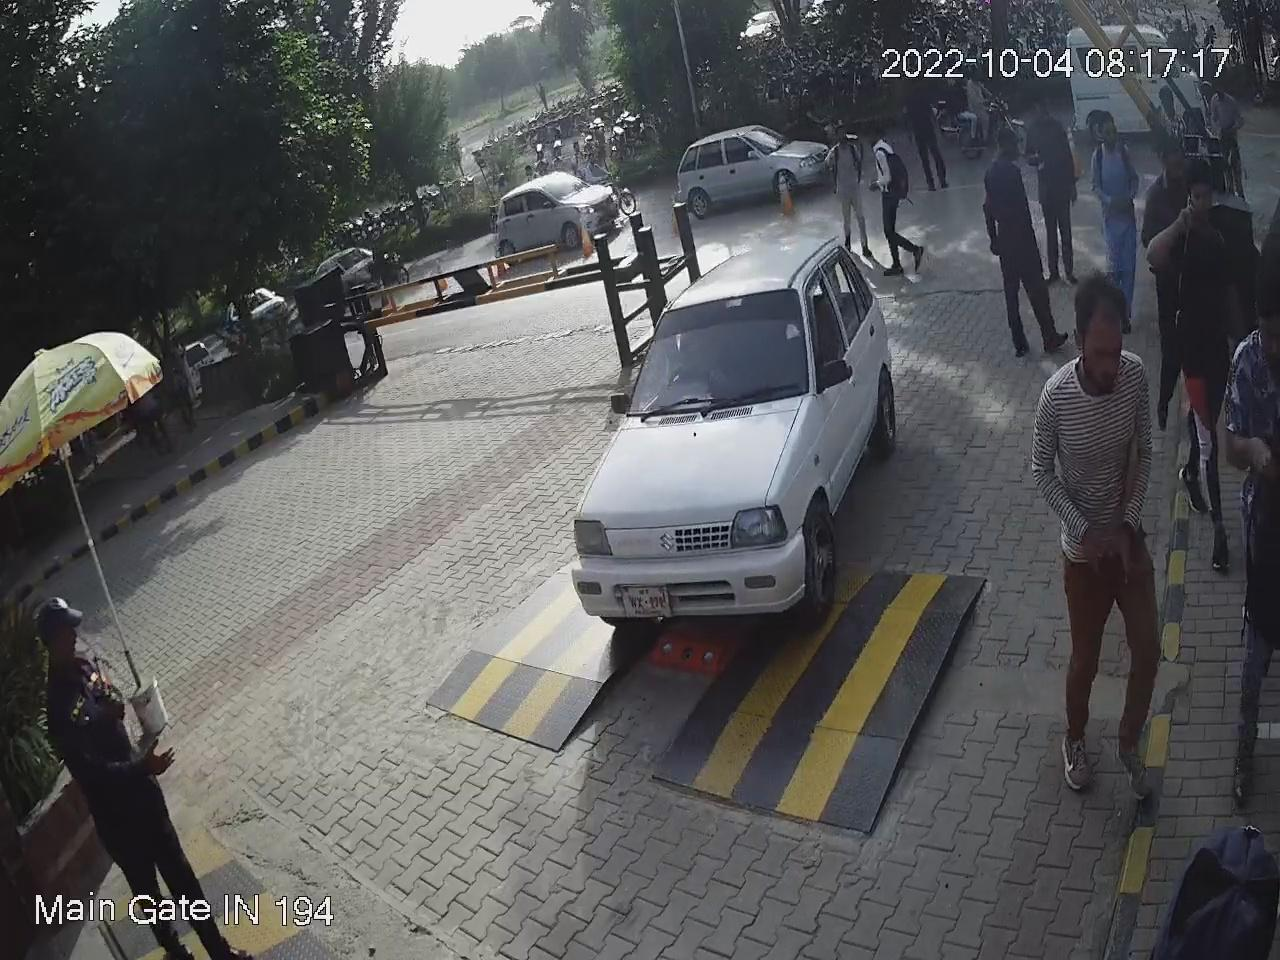windshield: (613, 280, 815, 425)
